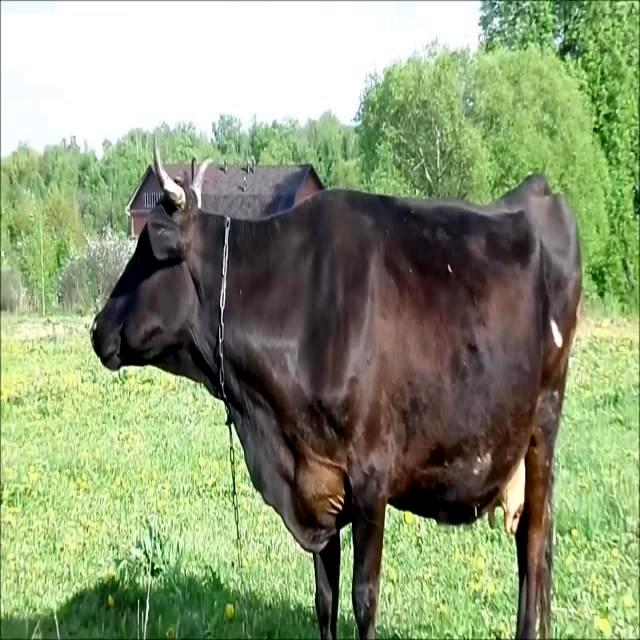COW: (92, 151, 581, 640)
